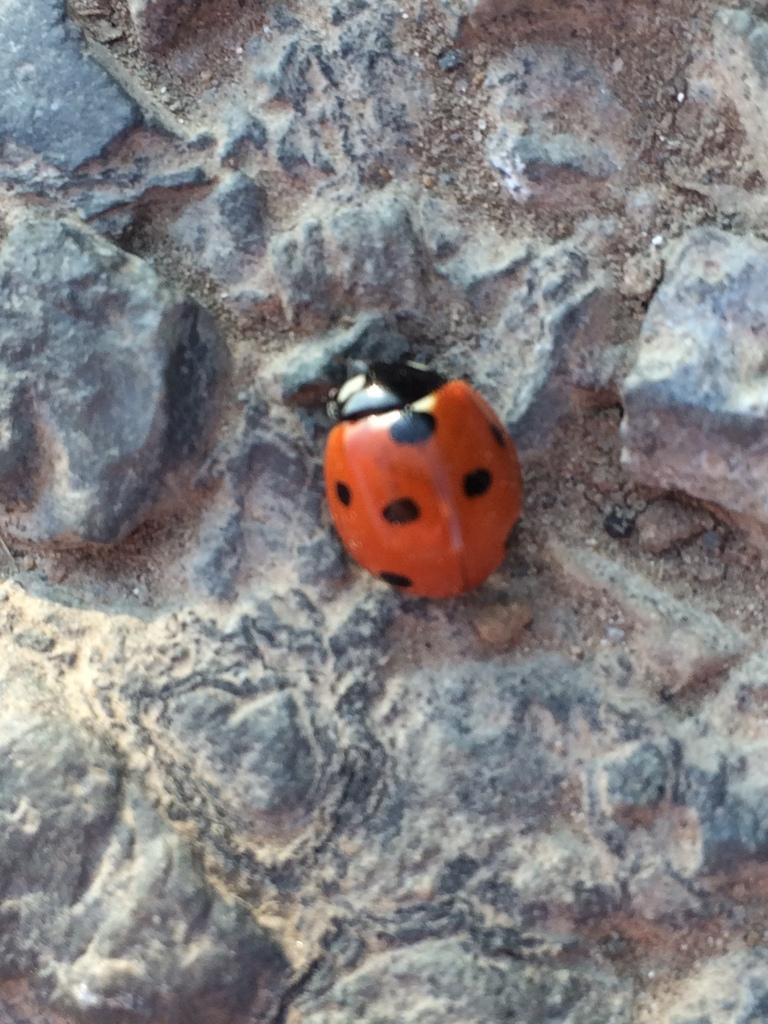ladybug: (321, 353, 529, 600)
